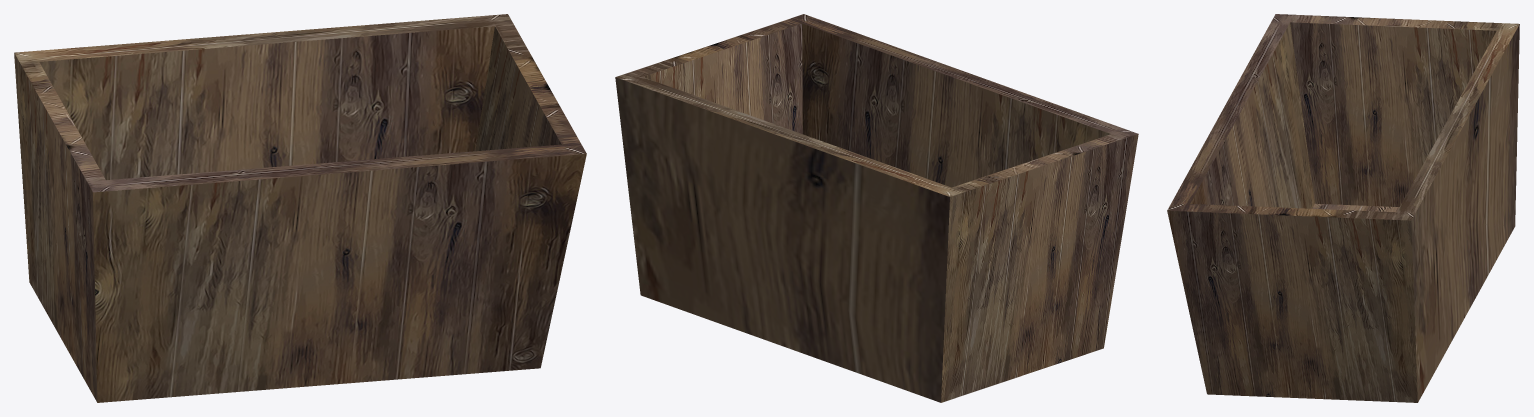
Rendered from emptyBox.fbx.
3 views of the same model, side by side, from view 1: azimuth 30°, elevation 25°; view 2: azimuth 150°, elevation 25°; view 3: azimuth 270°, elevation 25° (orthographic). The views are drawn at different scales.
Visible parts, largest first — view 1: pCube81; view 2: pCube81; view 3: pCube81.
Boxes of the visible parts, left/top/right/bottom form: pCube81: left=14, top=14, right=586, bottom=402; pCube81: left=615, top=14, right=1138, bottom=402; pCube81: left=1167, top=14, right=1519, bottom=402.
Bounding box in the file's own units: 120 × 61.68 × 86.79.
